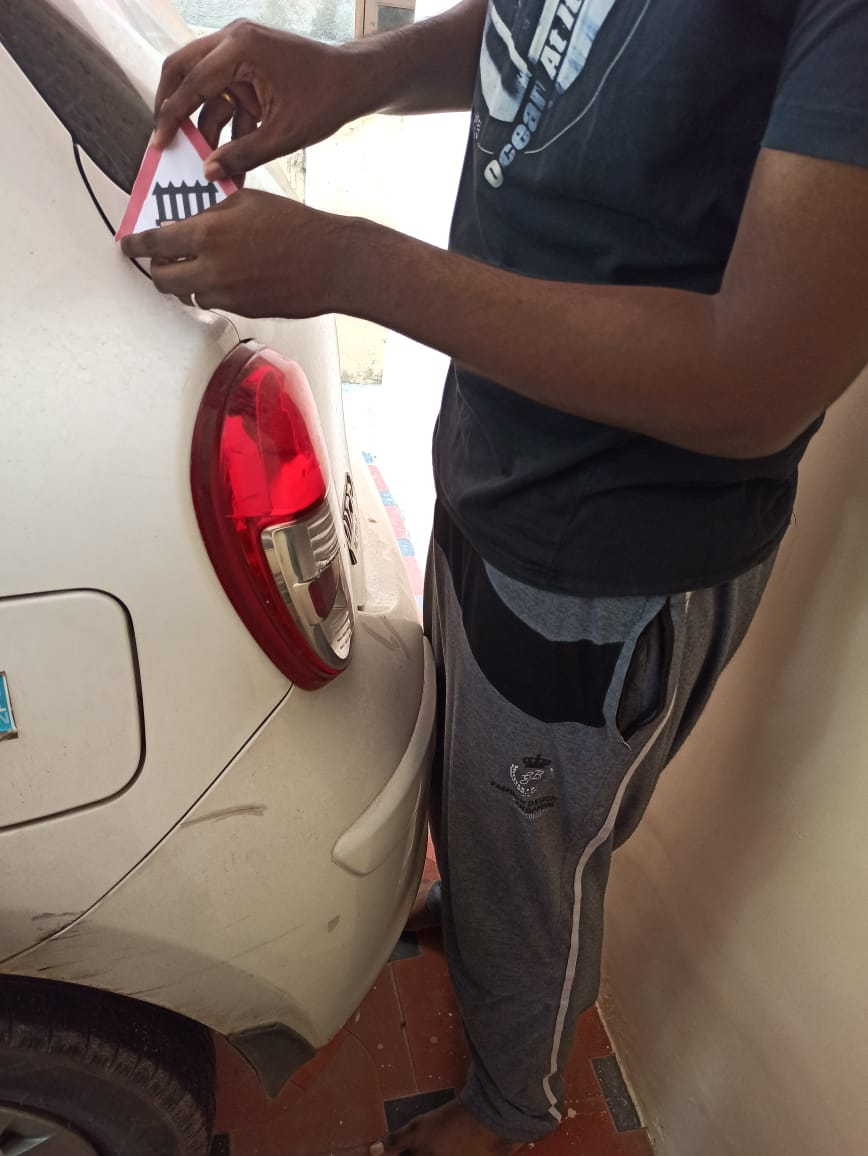GUARDED LEVEL CROSSING: (101, 81, 284, 295)
